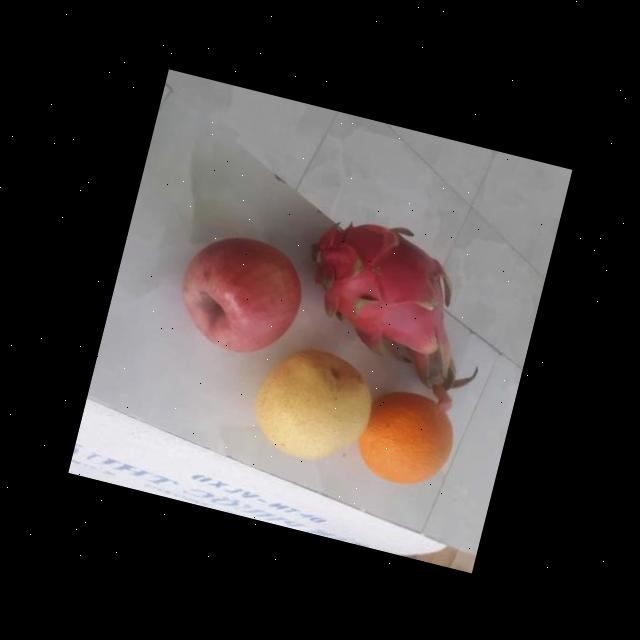apple: (170, 224, 313, 368)
orange: (348, 380, 467, 500)
pear: (247, 338, 381, 474)
pitaya: (291, 206, 469, 374)
